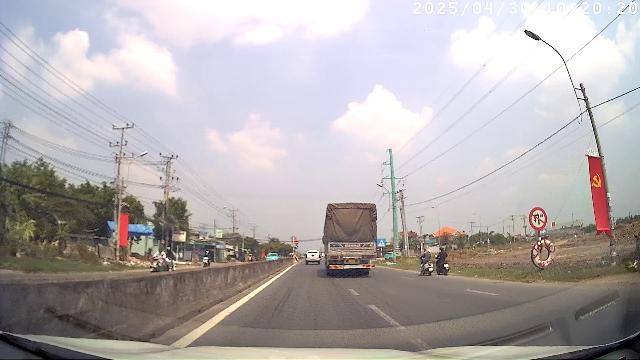124b-cam-oto-quay-dau-xe: (530, 207, 548, 231)
423a-duong-nguoi-di-bo-sang-ngang-1: (378, 239, 386, 247)
